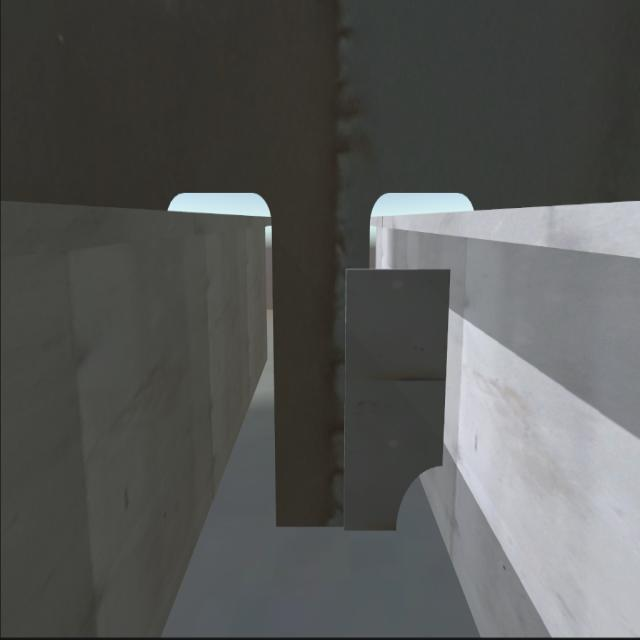fillet_hole: (396, 460, 444, 534)
fillet_yong_jeop_jang: (274, 519, 406, 537)
longi_yong_jeop_jang: (444, 262, 452, 462)
plate_CP01: (348, 271, 450, 541)
